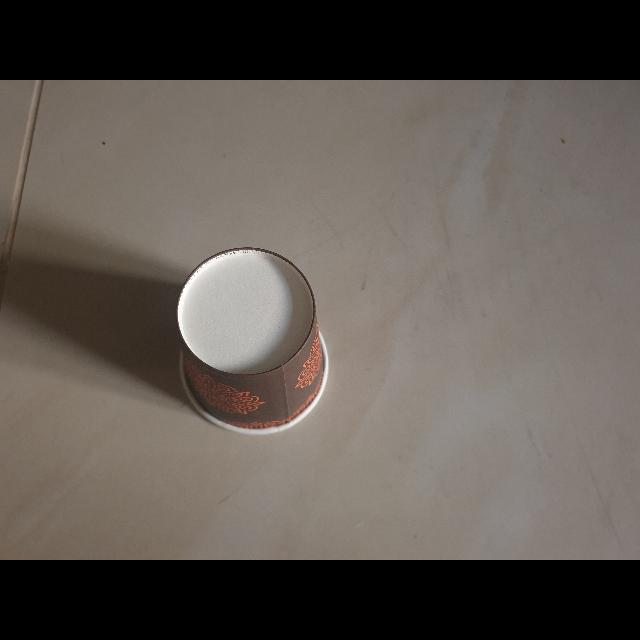trash: (170, 242, 334, 436)
